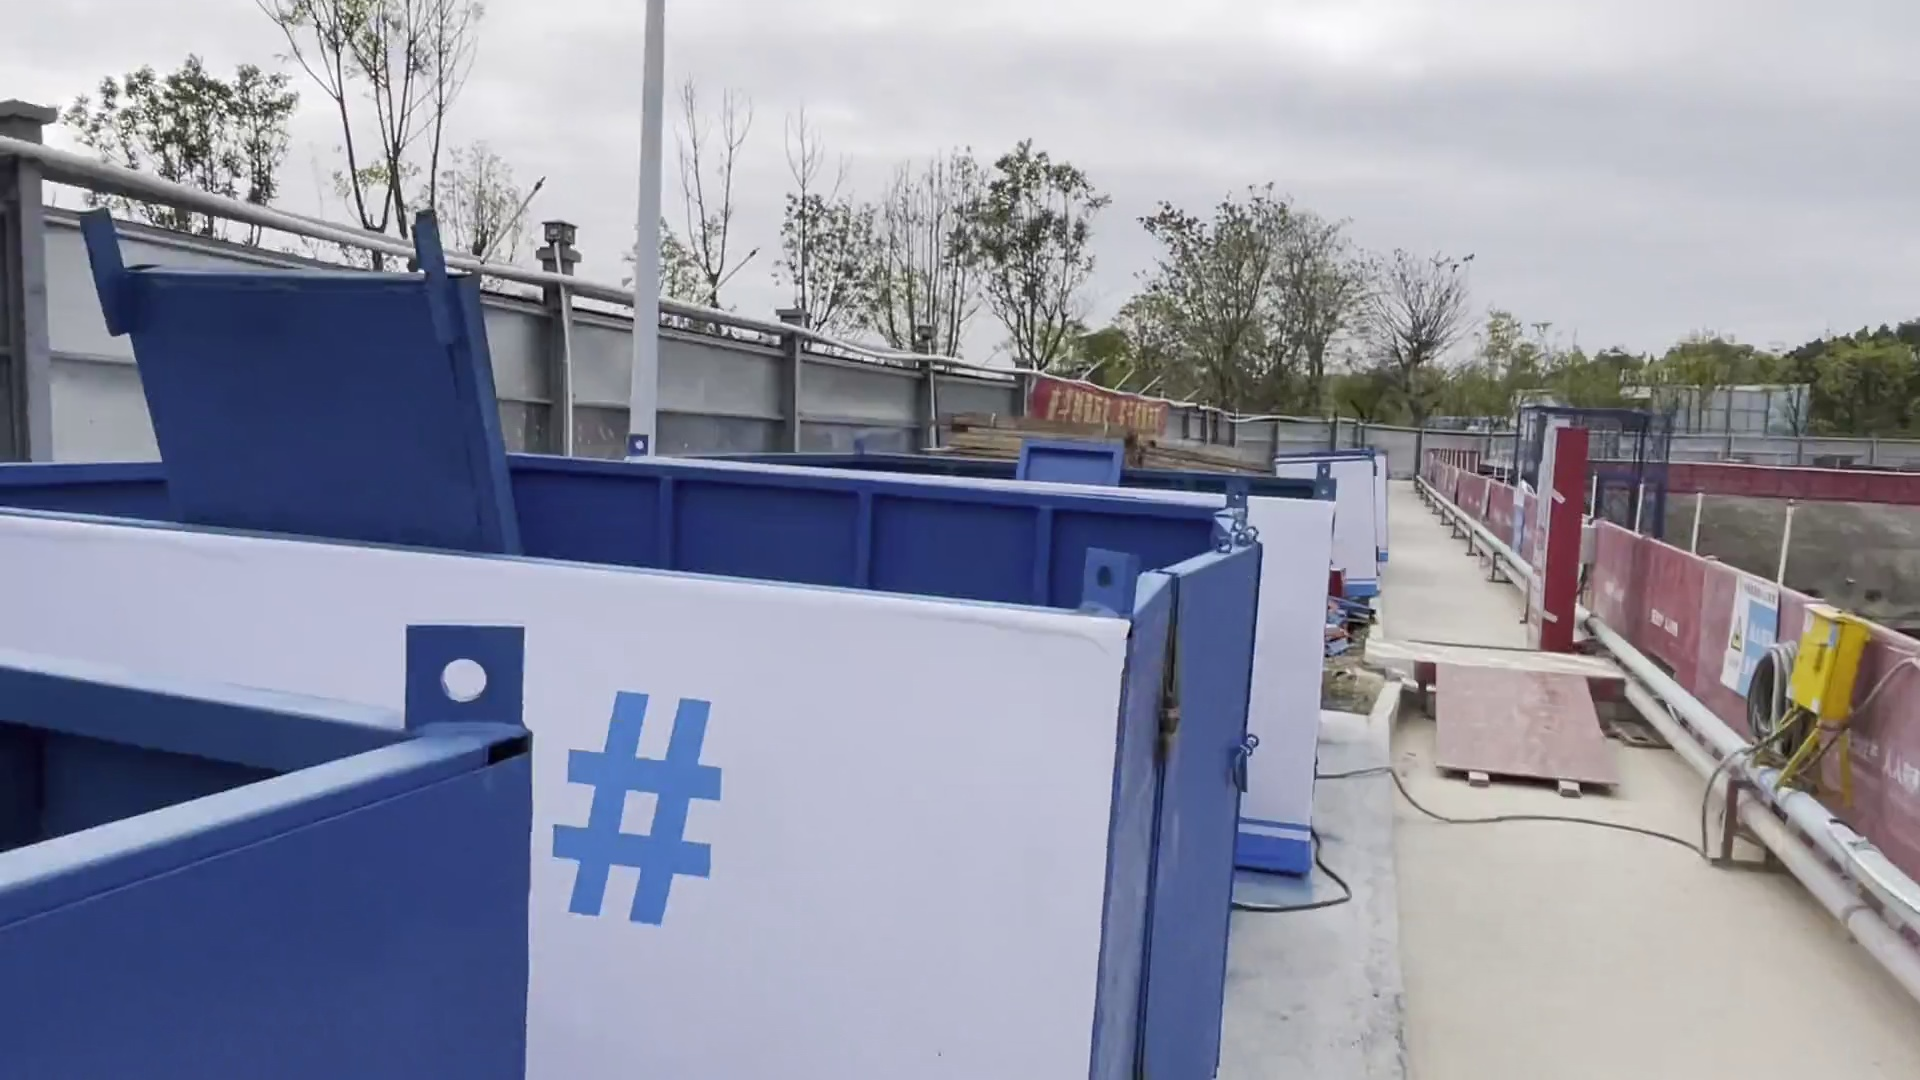board: (1425, 650, 1626, 811)
ebox: (1795, 593, 1870, 756)
wood: (1124, 434, 1282, 475), (949, 407, 1026, 467)
